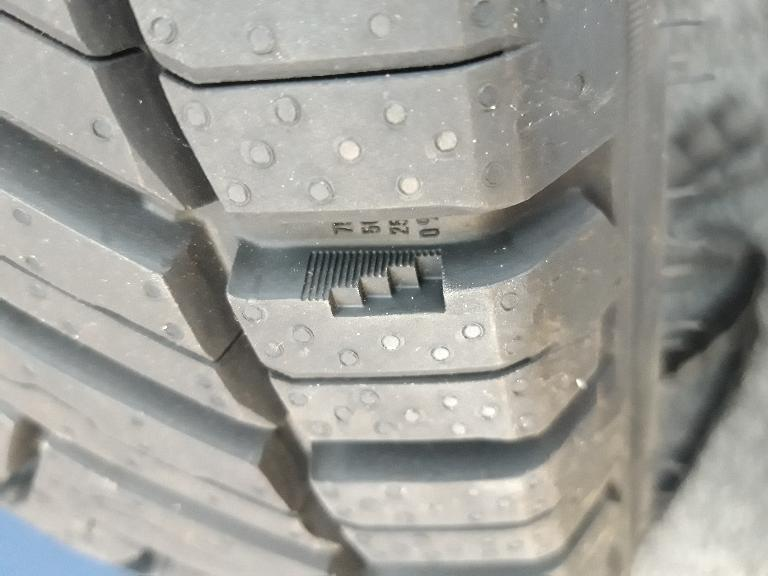temoin:100: (293, 239, 458, 324)
